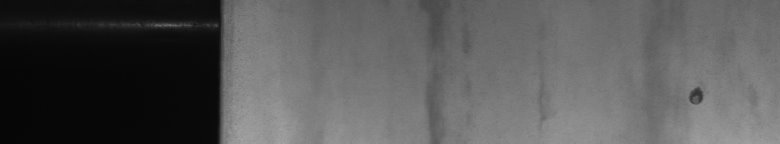fi: (684, 80, 711, 112)
